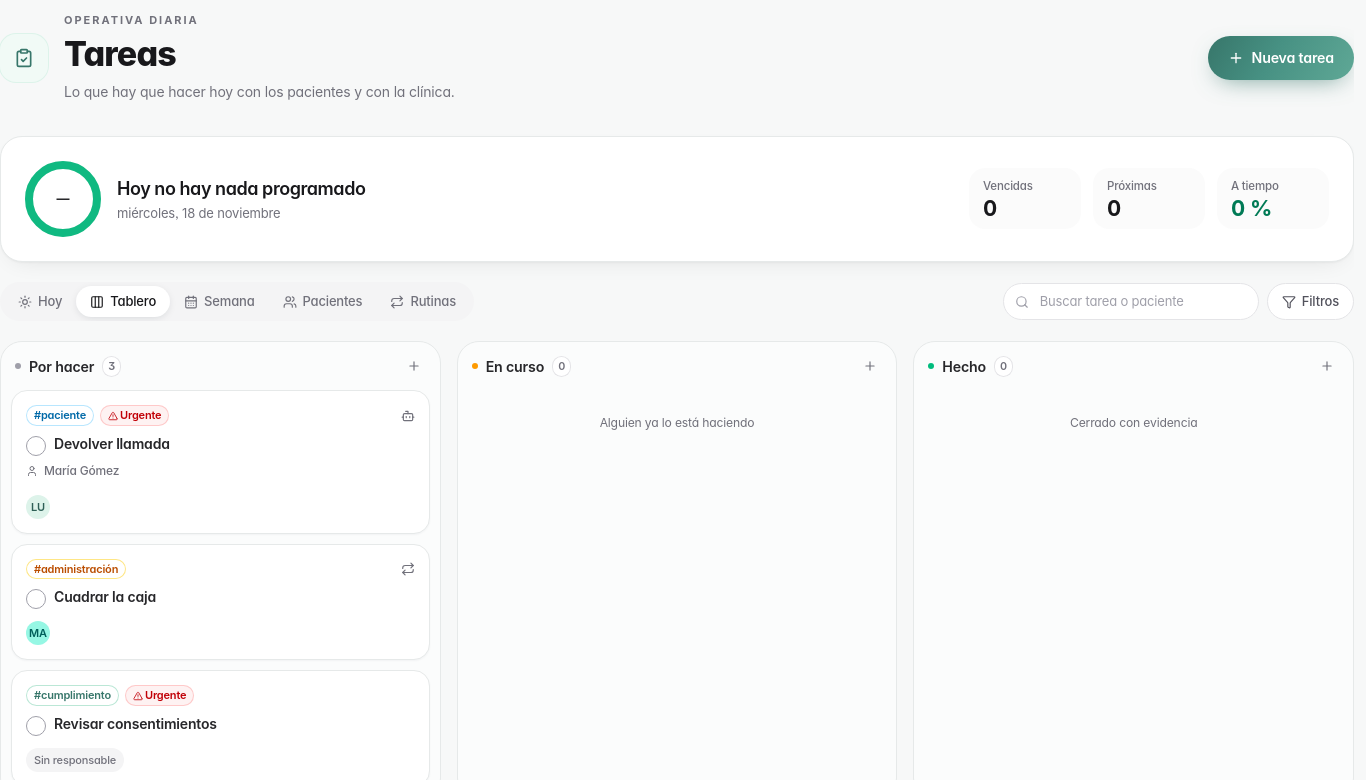
it: TasksWorkspace — búsqueda › sin resultados deja el tablero vacío
In the field with placeholder "Buscar tarea o paciente": x=1131, y=302 top-left (1003, 283), bottom-right (1259, 320), type "zzzz"
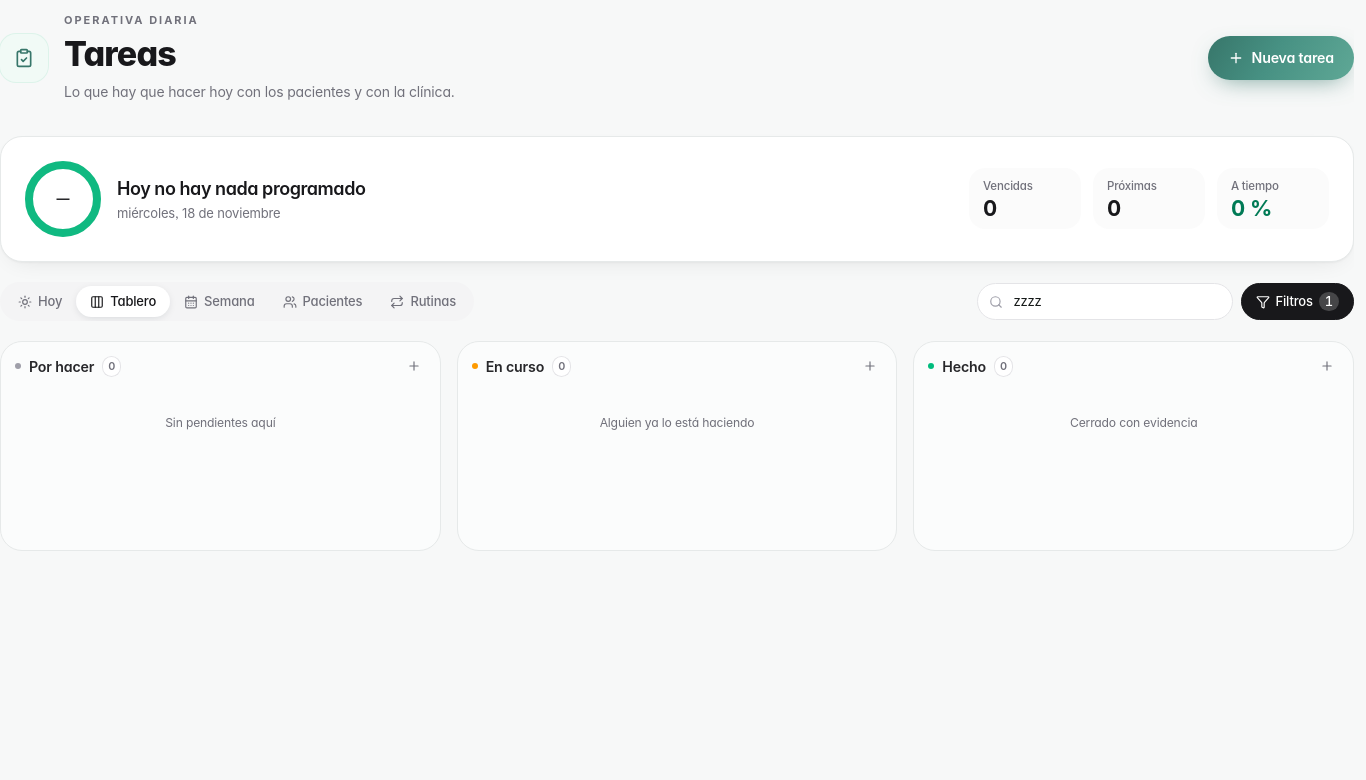
Expected: the text "Sin pendientes aquí" is shown, top-left (165, 415), bottom-right (276, 430)
